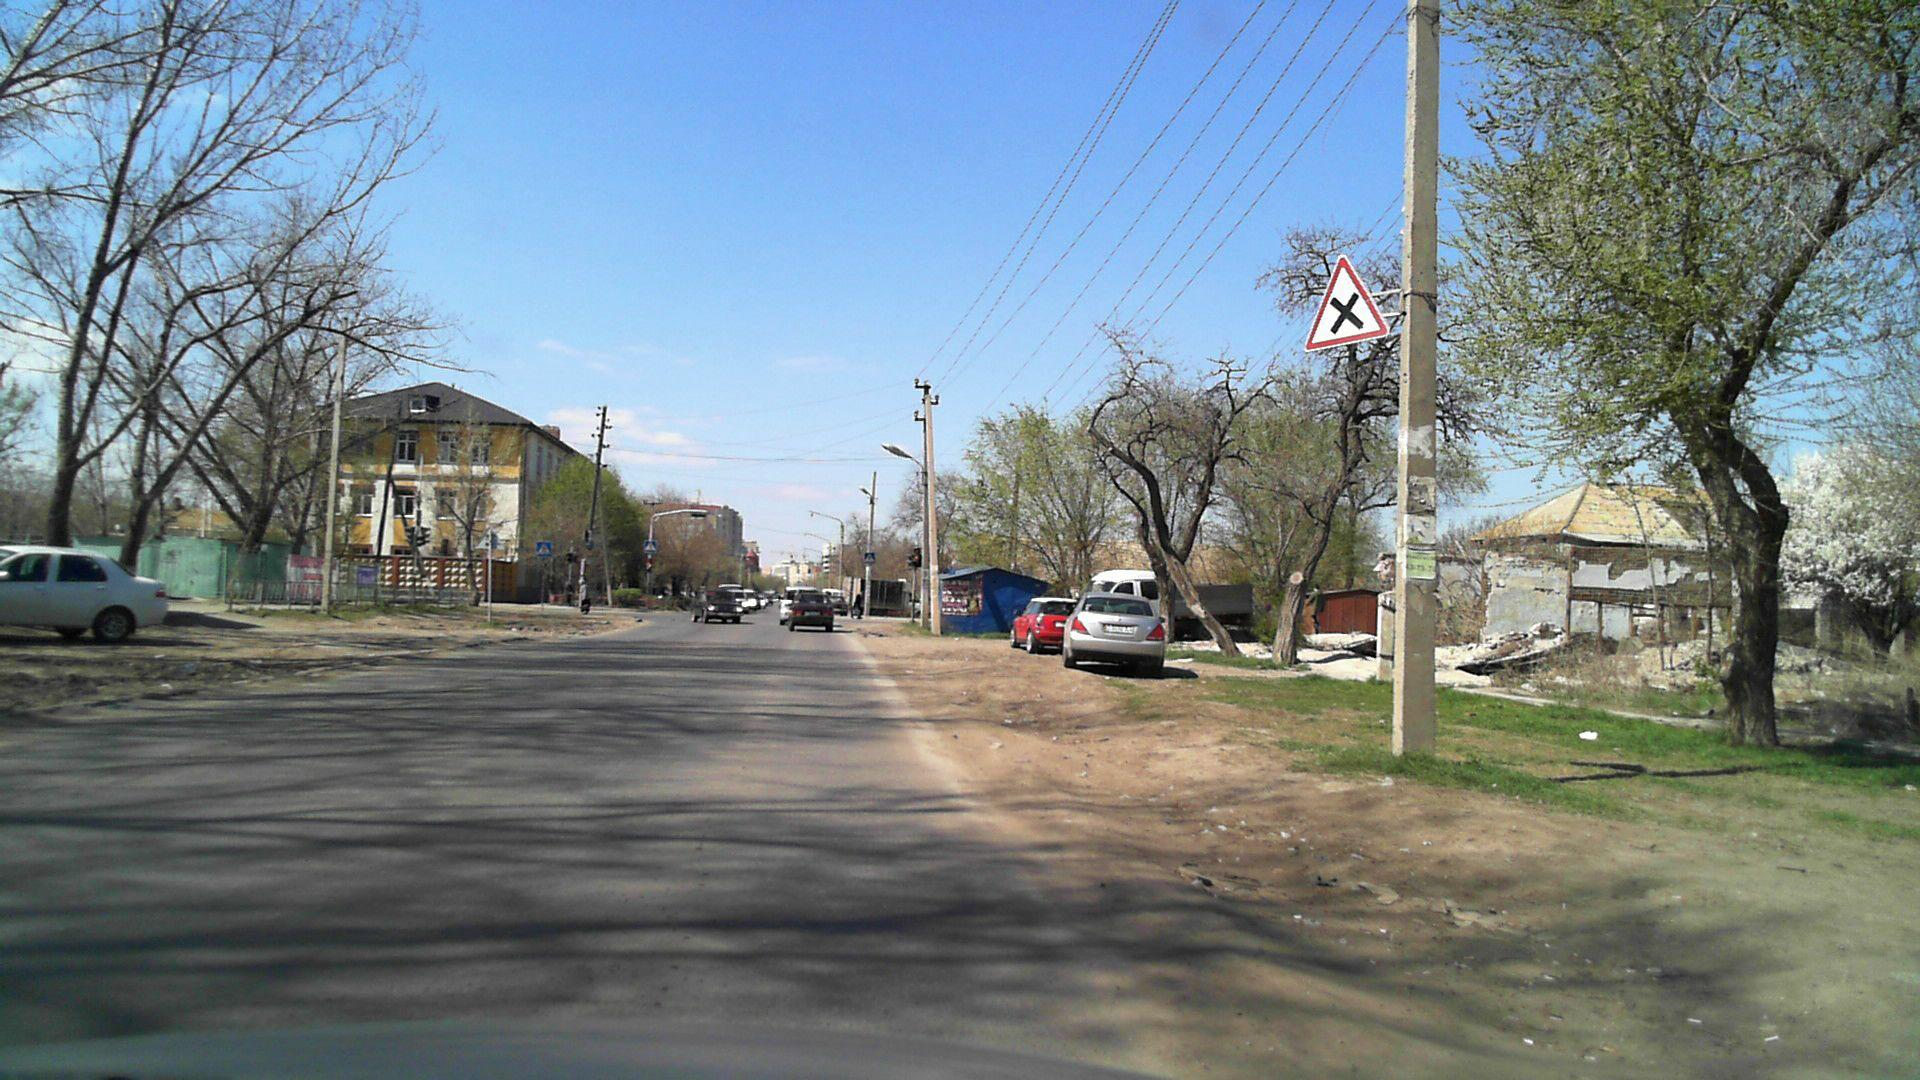1_6: (1303, 253, 1390, 353)
5_19_1: (862, 554, 876, 564)
5_19_2: (537, 542, 553, 556), (645, 541, 655, 554)
